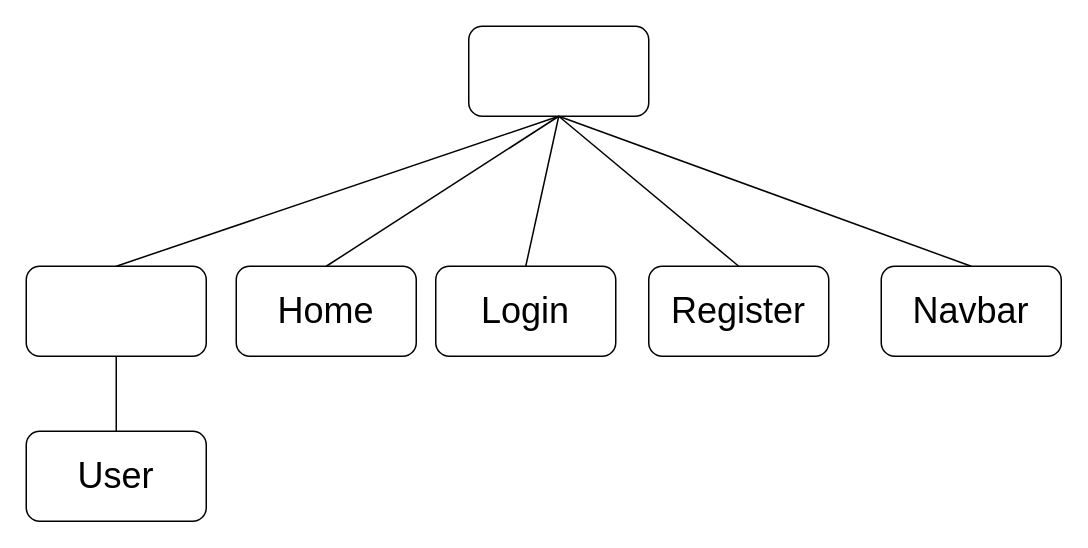
Image size: 1088x548. Some labels were removed from this diagram. Here are the shapes that lost their labels. From the top down, the box of each, then its label:
(467, 25, 649, 116): App
(25, 265, 206, 356): ViewUsers
